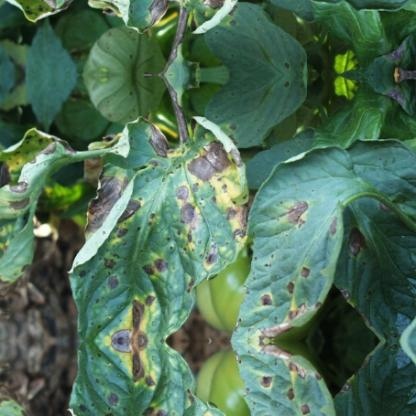Early-Blight: (67, 98, 246, 340), (252, 180, 374, 340), (67, 341, 246, 416), (0, 122, 66, 298), (252, 340, 373, 416), (67, 0, 246, 50)
